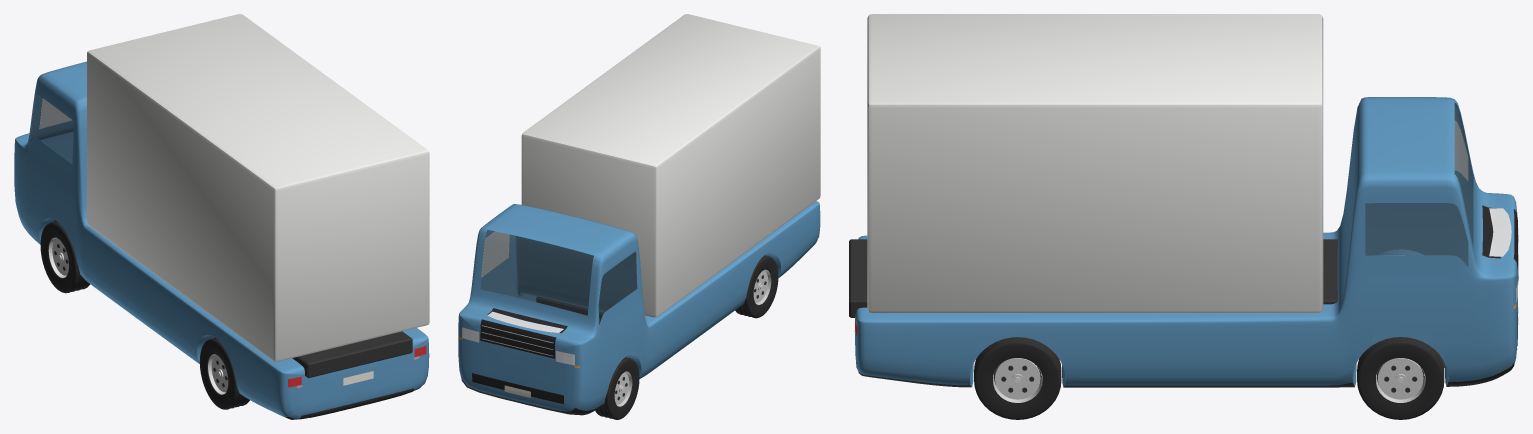
File: traffic_lorry.glb
3 renders of one model, left to right at view 1: azimuth 30°, elevation 25°; view 2: azimuth 150°, elevation 25°; view 3: azimuth 270°, elevation 25°, orthographic. The views are drawn at different scales.
Parts seen in each view (by area): view 1: Body, Wheel_FL, Wheel_RL, Glass; view 2: Body, Glass, Wheel_FL, Wheel_RL, Lights_Head; view 3: Body, Glass, Wheel_FR, Wheel_RR.
Boxes of the visible parts, <box> form: Body: <box>14,14,429,419</box>; Wheel_FL: <box>40,221,90,293</box>; Wheel_RL: <box>199,337,249,409</box>; Glass: <box>30,95,73,163</box>; Body: <box>458,14,820,415</box>; Glass: <box>480,230,636,323</box>; Wheel_FL: <box>595,357,639,419</box>; Wheel_RL: <box>735,255,778,318</box>; Lights_Head: <box>462,327,574,365</box>; Body: <box>849,14,1518,387</box>; Glass: <box>1365,103,1473,266</box>; Wheel_FR: <box>1357,337,1444,419</box>; Wheel_RR: <box>974,337,1061,419</box>.
Bounding box in the file's own units: 2.38 × 3.87 × 7.35.
